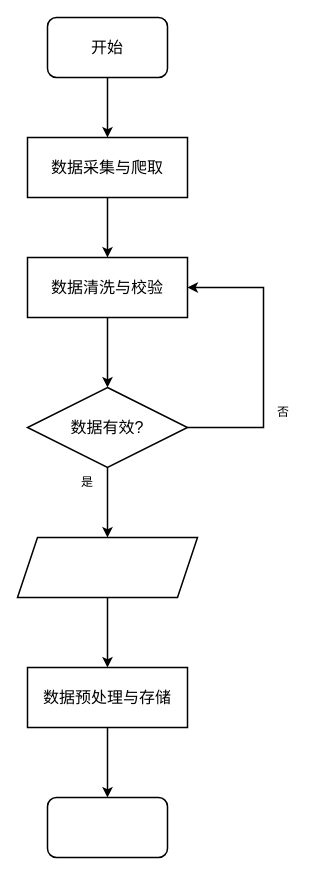
Some shapes in this 321 by 876 pixel diagram are drawn without their labels. The centre of each missing label's shape, as x and y in pixels:
结束: the point at 107,827
输出清洗后数据: the point at 107,567
